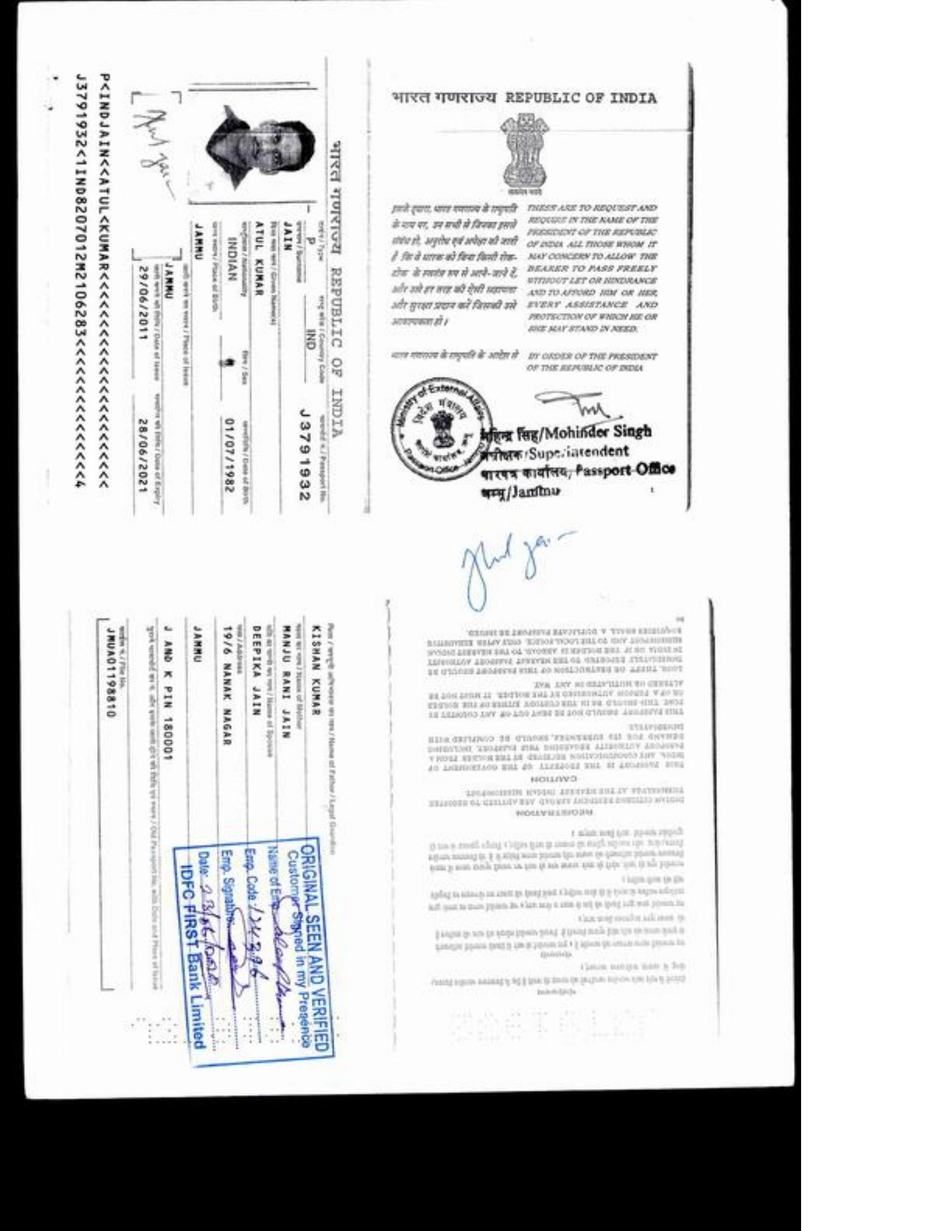DOB: (212, 412, 241, 497)
File_no: (101, 618, 122, 725)
Surname: (280, 212, 299, 258)
address: (156, 610, 238, 808)
country_code: (302, 321, 318, 361)
date_of_expiry: (131, 410, 159, 517)
date_of_issue: (135, 260, 153, 345)
details: (68, 54, 117, 501)
father_name: (308, 617, 326, 726)
mother_name: (277, 618, 295, 745)
name: (246, 217, 270, 317)
nationality: (224, 229, 239, 295)
passport_no: (290, 396, 327, 520)
photo: (187, 98, 319, 199)
place_of_birth: (189, 218, 210, 265)
place_of_issue: (159, 256, 179, 300)
sign: (134, 98, 182, 227)
spouse_name: (249, 617, 268, 723)
type: (303, 228, 317, 257)
